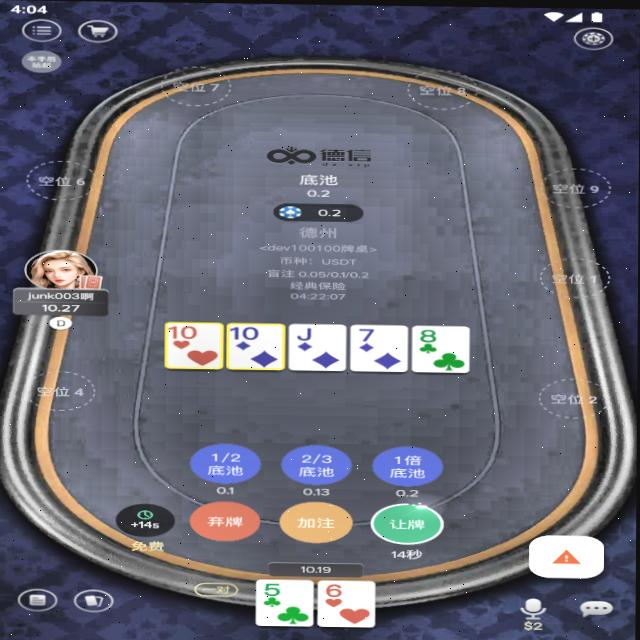10f: (229, 325, 265, 341)
10h: (167, 325, 198, 340)
5m: (264, 580, 286, 596)
6h: (324, 581, 347, 598)
7f: (356, 325, 378, 343)
8m: (419, 326, 440, 342)
Jf: (295, 325, 318, 341)
